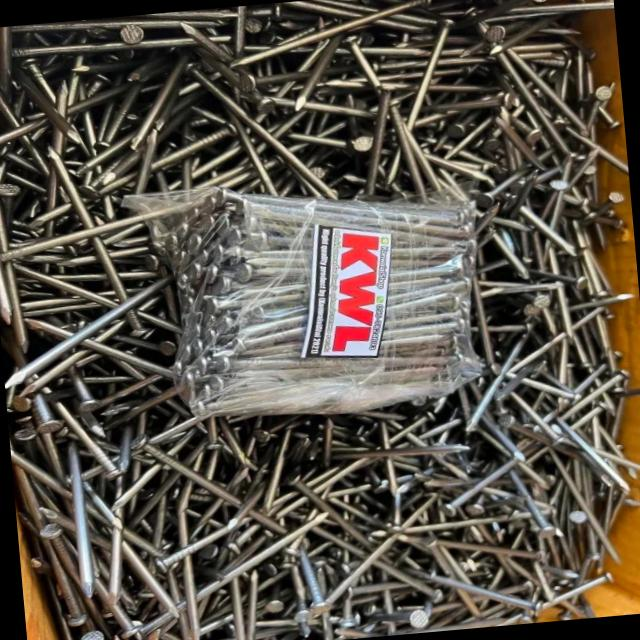3x10 nail: (356, 472, 610, 630), (43, 402, 184, 640), (337, 18, 478, 200)
